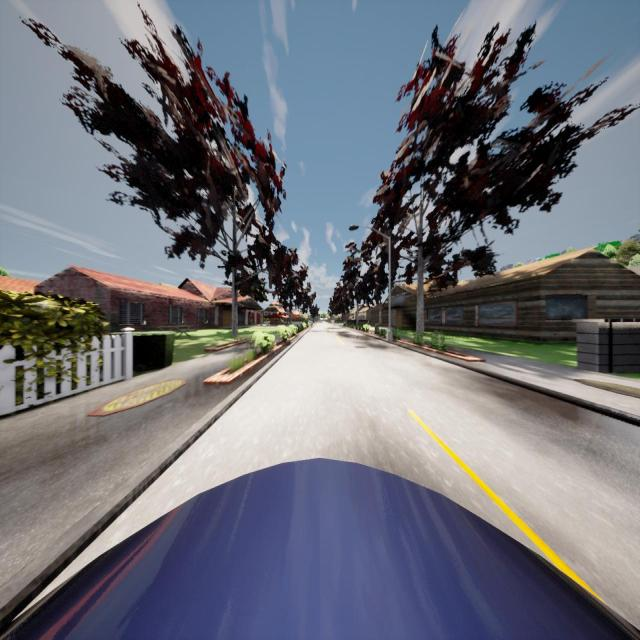Vehicle: (0, 455, 640, 640), (318, 319, 322, 324)
